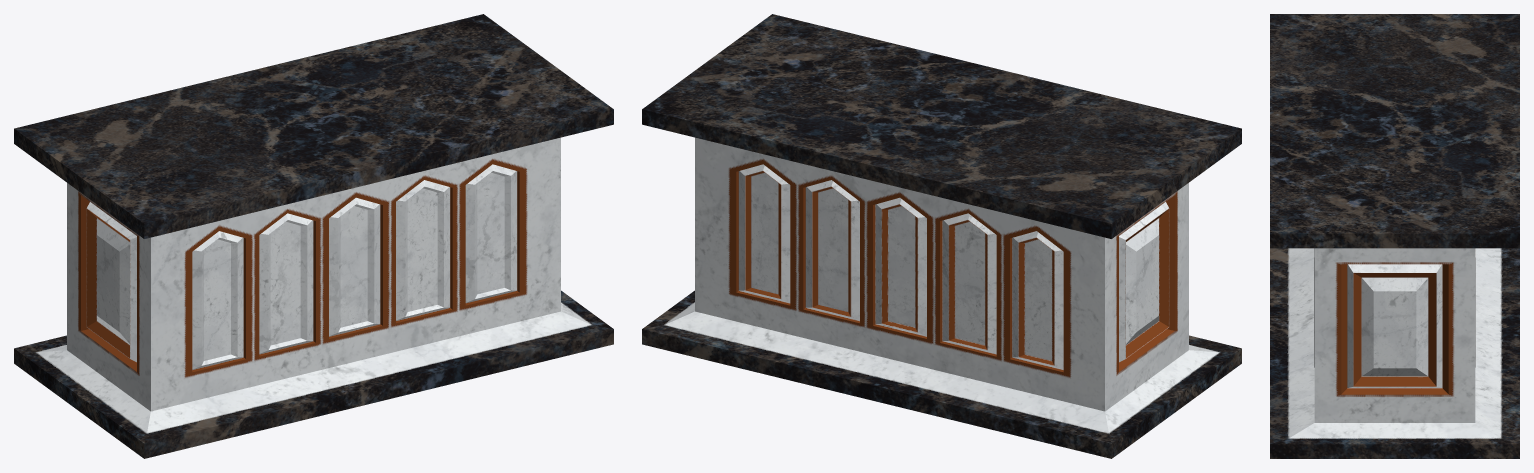
The picture shows the model from 3 angles, left to right: view 1: azimuth 30°, elevation 25°; view 2: azimuth 150°, elevation 25°; view 3: azimuth 270°, elevation 25°; orthographic projection. The views are drawn at different scales.
Visible parts, largest first — view 1: Altar; view 2: Altar; view 3: Altar.
Boxes of the visible parts, x1,y1,x2,y2 form: Altar: [14, 14, 613, 458]; Altar: [642, 14, 1241, 458]; Altar: [1270, 14, 1519, 458].
Size of the model in its own units: 1.89 by 0.9024 by 0.9068.
Materials: 1 (1 with a texture image).
